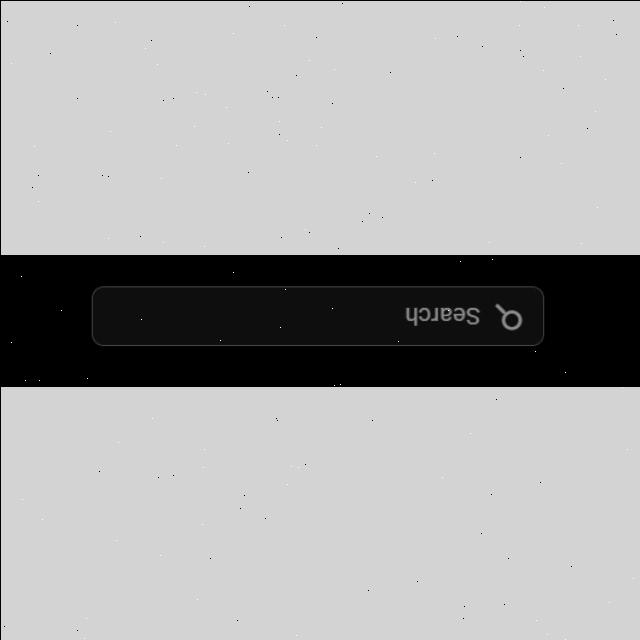VTextField: (88, 284, 546, 346)
